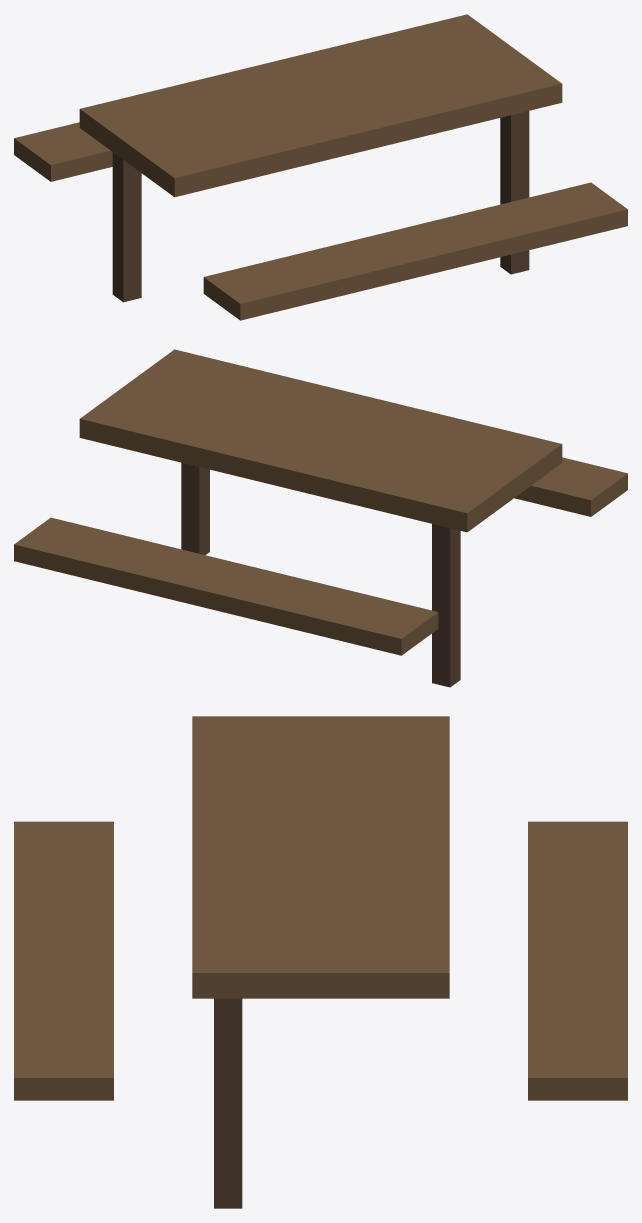
File: furniture-table.glb
3 renders of one model, top to bottom at view 1: azimuth 30°, elevation 25°; view 2: azimuth 150°, elevation 25°; view 3: azimuth 270°, elevation 25°, orthographic. The views are drawn at different scales.
Bounding box in the file's own units: 1.7 × 0.78 × 1.72.
